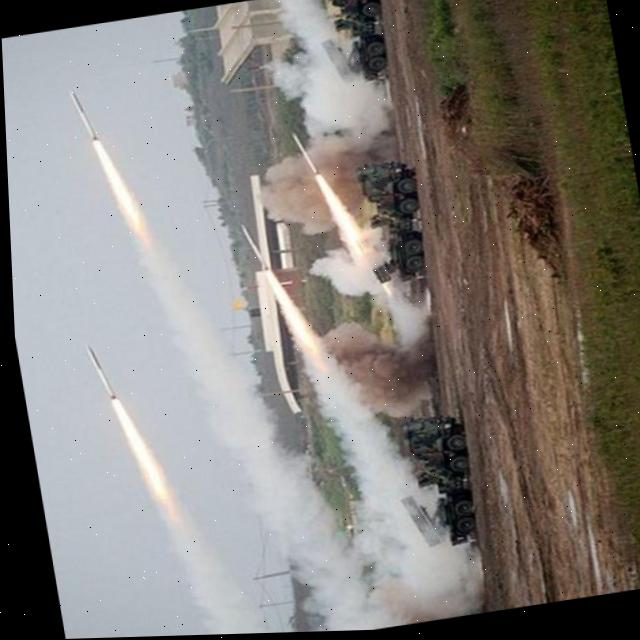missile: (59, 75, 112, 147), (76, 337, 124, 410), (231, 214, 280, 275), (285, 127, 326, 181)
